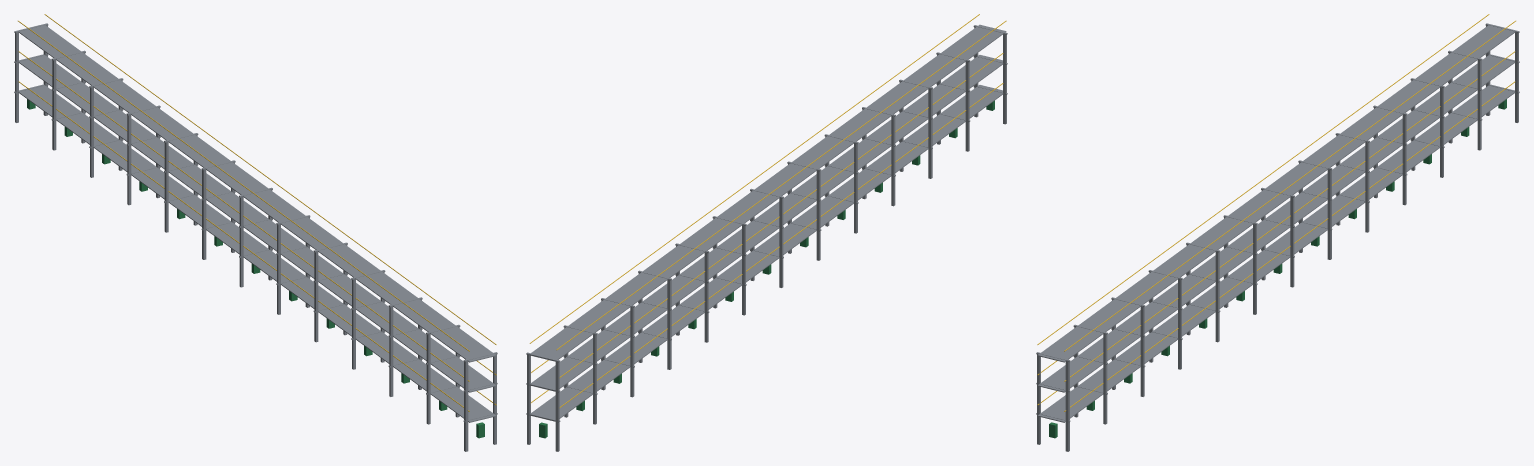
Rendered from reefer_rack.glb.
3 views of the same model, side by side, from view 1: azimuth 30°, elevation 25°; view 2: azimuth 150°, elevation 25°; view 3: azimuth 330°, elevation 25° (orthographic).
Parts seen in each view (by area): view 1: reefer; view 2: reefer; view 3: reefer.
Part boxes in pixels (box(x1,y1,x2,y2)): reefer: box(14, 14, 497, 451); reefer: box(526, 14, 1007, 451); reefer: box(1036, 14, 1519, 451).
Size of the model in its own units: 3.2 by 9.42 by 76.2.
